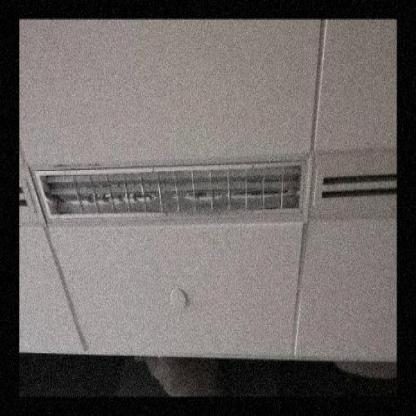light_off: (32, 132, 316, 238)
